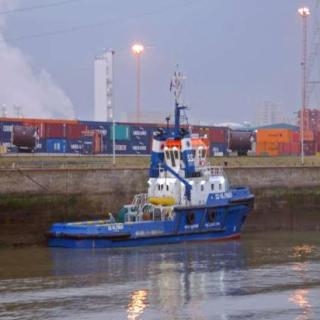Tug Boat: (55, 57, 249, 242)
